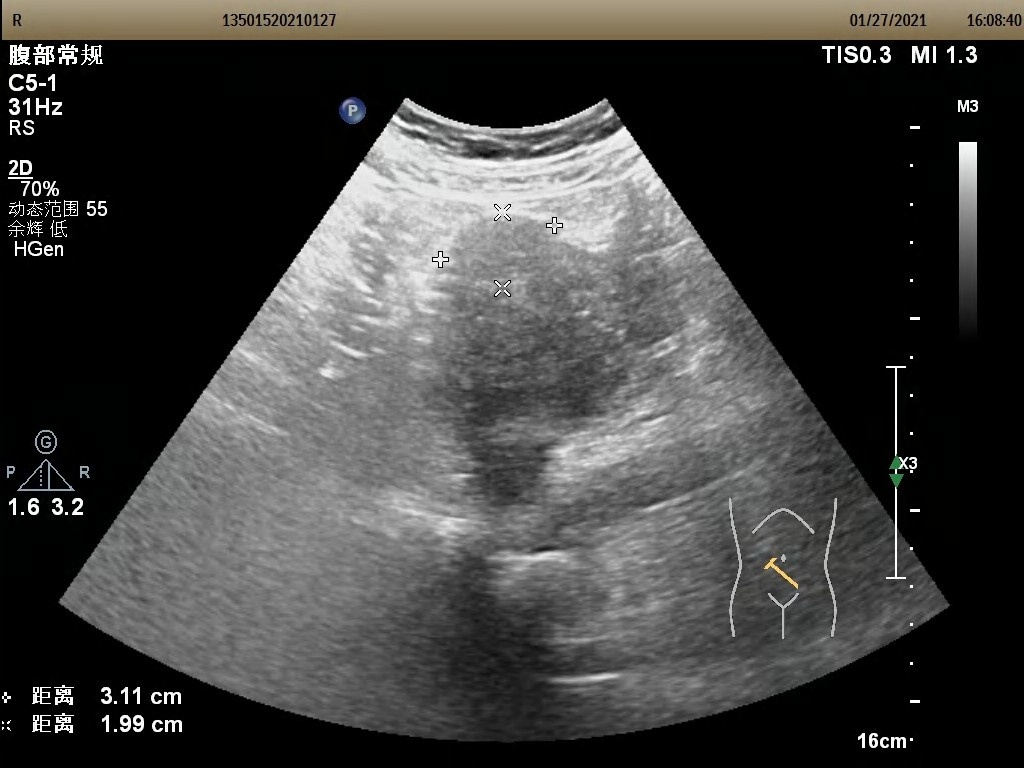肌瘤: (439, 220, 551, 283)
